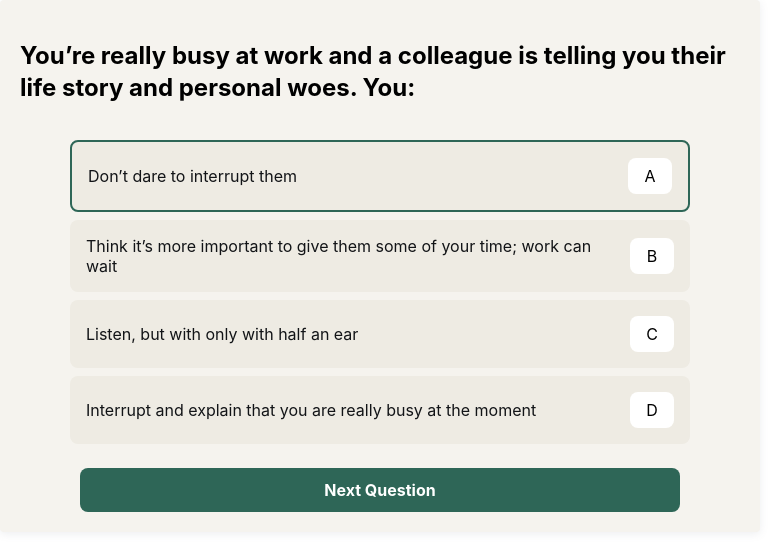
should go to next question when clicking on next button
Click the text "Next Question" at point(380, 490), box [324, 480, 436, 500]
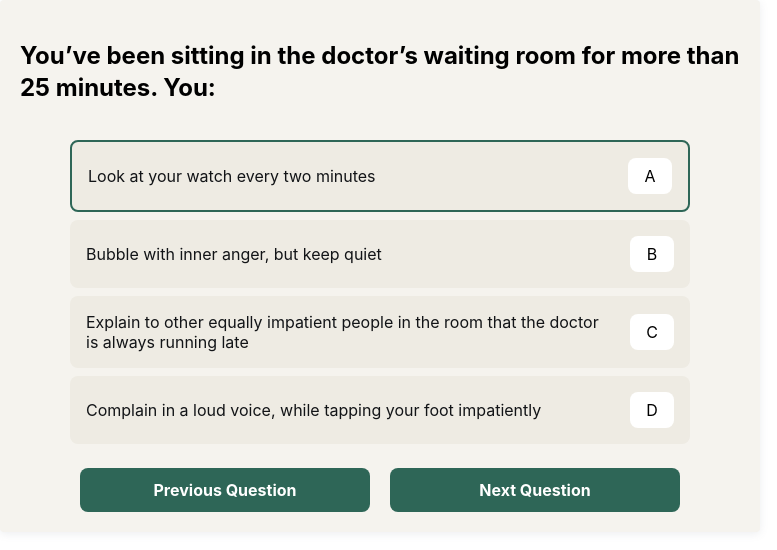
Expected: the heading "You’ve been sitting in the doctor’s waiting room for more than 25 minutes. You:" is shown, [20, 40, 740, 104]
Expected: the text "Look at your watch every two minutes" is shown, [88, 166, 376, 186]
